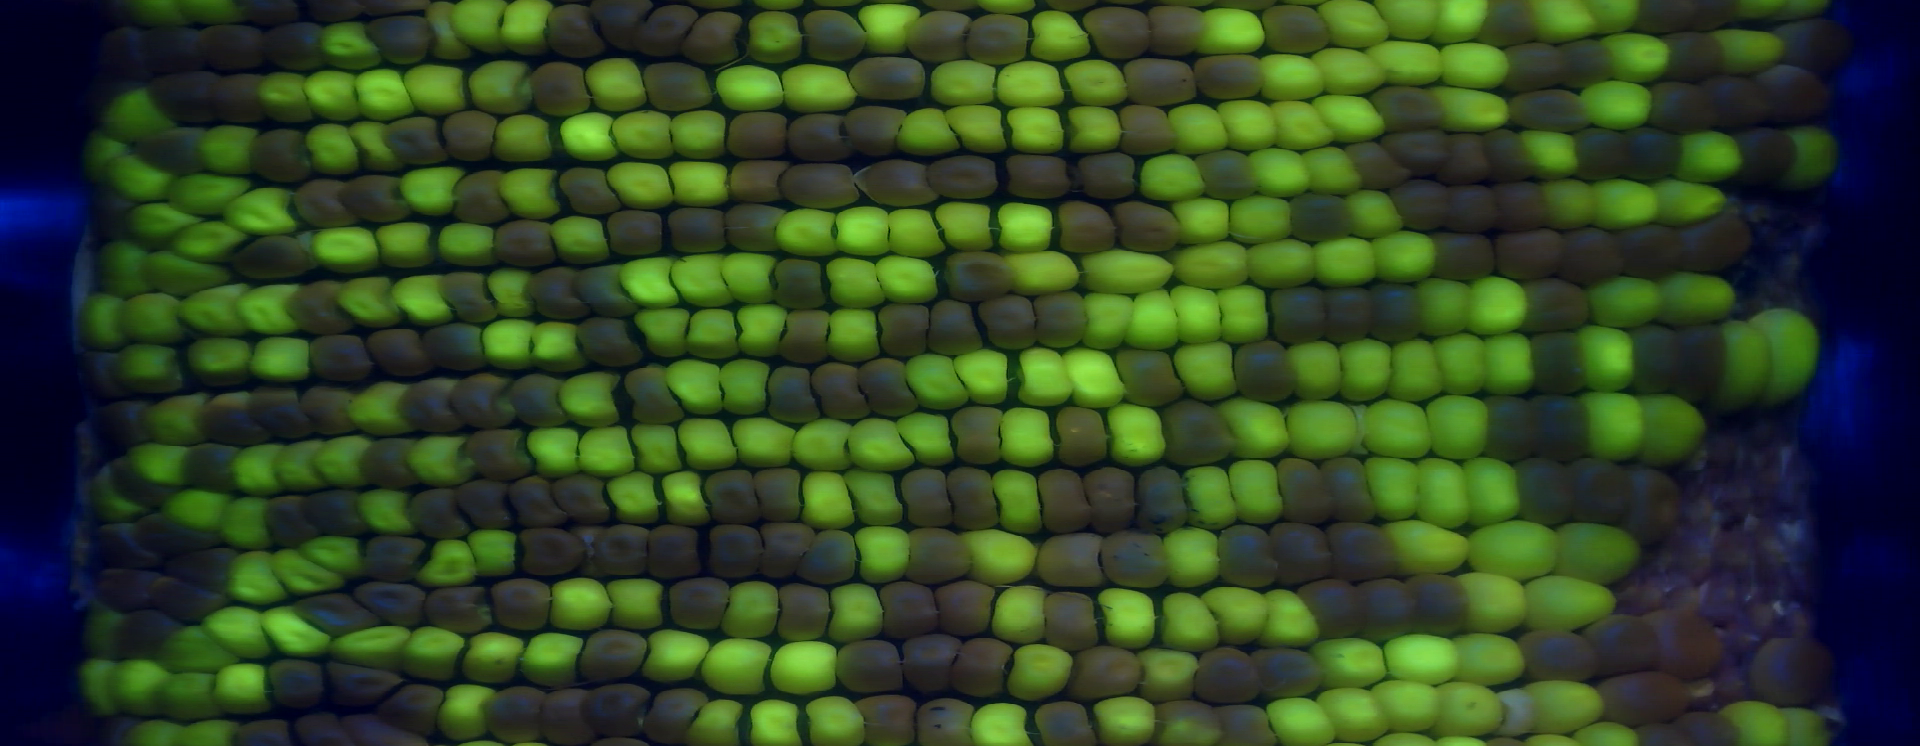fluorescent: (1753, 303, 1821, 398), (1640, 390, 1714, 475), (1714, 318, 1778, 416), (1551, 521, 1644, 586), (1524, 575, 1619, 638), (1580, 323, 1651, 405), (1003, 646, 1087, 710), (960, 528, 1049, 589), (1359, 394, 1438, 462), (1284, 401, 1365, 465), (1441, 626, 1528, 686), (1378, 631, 1468, 688), (1250, 587, 1326, 654), (396, 620, 471, 687), (323, 620, 420, 673), (201, 604, 285, 664), (1460, 527, 1560, 577), (1371, 680, 1458, 737), (1199, 583, 1278, 646), (1381, 519, 1477, 571), (104, 149, 182, 212), (1224, 392, 1297, 459), (1675, 124, 1749, 190), (1584, 390, 1651, 463), (246, 330, 327, 390), (1433, 675, 1509, 739), (767, 637, 844, 699), (1307, 636, 1393, 691), (1416, 454, 1476, 534), (261, 605, 340, 665), (1157, 589, 1232, 653), (176, 287, 264, 341), (613, 254, 689, 316), (694, 639, 778, 696), (1425, 394, 1494, 462), (988, 582, 1056, 650), (1311, 685, 1391, 742), (125, 441, 204, 499), (1187, 465, 1248, 540), (1456, 572, 1532, 632), (1431, 80, 1513, 135), (1480, 332, 1540, 407), (997, 247, 1087, 296), (1518, 680, 1609, 729), (1427, 337, 1498, 399), (1016, 342, 1078, 414), (986, 464, 1047, 537), (1657, 266, 1739, 320), (1079, 247, 1173, 294), (1335, 338, 1400, 405), (1417, 276, 1482, 343), (1174, 342, 1244, 404), (1093, 584, 1164, 646), (93, 243, 164, 304), (1062, 344, 1129, 408), (1577, 80, 1657, 134), (795, 470, 863, 533), (1172, 243, 1254, 294), (144, 670, 227, 722), (850, 524, 913, 590), (497, 167, 564, 229), (1267, 96, 1337, 156), (1060, 51, 1136, 107), (247, 69, 318, 127), (665, 250, 737, 307), (520, 633, 593, 691), (727, 412, 801, 468), (951, 349, 1019, 410), (849, 416, 917, 477), (1136, 153, 1216, 205), (1367, 227, 1438, 284), (931, 198, 1002, 256), (196, 122, 267, 180), (118, 290, 195, 343), (1243, 236, 1324, 287), (1164, 526, 1228, 589), (1228, 462, 1291, 527), (1090, 691, 1163, 746), (169, 218, 256, 265), (722, 579, 790, 639), (71, 657, 130, 725), (1584, 272, 1667, 321), (1364, 38, 1446, 87), (780, 60, 862, 109), (583, 55, 654, 111), (1247, 142, 1318, 198), (636, 627, 707, 684), (351, 484, 422, 540), (402, 61, 473, 118), (547, 573, 620, 628), (1464, 273, 1528, 336), (998, 403, 1060, 467), (304, 121, 369, 183), (182, 331, 256, 385), (1367, 454, 1423, 524), (156, 624, 240, 670), (302, 225, 384, 273), (993, 60, 1069, 111), (902, 347, 966, 408), (823, 581, 884, 644), (664, 107, 736, 160), (872, 254, 944, 307), (1299, 145, 1371, 198), (1004, 100, 1071, 158), (1462, 451, 1520, 518), (100, 87, 178, 137), (769, 205, 840, 258), (1313, 91, 1384, 145), (671, 356, 733, 418), (213, 489, 276, 550), (480, 258, 544, 318), (924, 60, 1007, 107), (137, 394, 213, 445), (1387, 334, 1445, 401), (73, 292, 140, 349), (403, 167, 469, 224), (1439, 37, 1511, 89), (457, 633, 529, 686), (1589, 176, 1667, 225), (489, 118, 562, 169), (299, 66, 367, 121), (222, 551, 291, 605), (1717, 26, 1788, 78), (234, 287, 305, 339), (1031, 9, 1096, 66), (654, 468, 711, 533), (715, 356, 771, 423), (993, 198, 1059, 255), (396, 273, 462, 330), (680, 695, 752, 746), (115, 343, 187, 394), (464, 60, 531, 115), (492, 1, 560, 56), (223, 189, 300, 236), (613, 107, 683, 159), (743, 5, 804, 65), (844, 469, 907, 527), (964, 701, 1044, 746), (713, 64, 787, 113), (1198, 5, 1272, 54), (610, 157, 675, 213), (1517, 127, 1582, 184), (164, 485, 242, 532), (853, 1, 921, 55), (804, 692, 872, 746), (107, 660, 174, 714), (142, 251, 231, 292), (672, 418, 741, 470), (302, 535, 371, 588), (1164, 283, 1224, 343), (1284, 338, 1346, 397), (1123, 287, 1182, 348), (435, 680, 497, 737), (831, 205, 896, 260), (1138, 644, 1202, 699), (211, 661, 276, 717), (372, 219, 437, 274), (527, 426, 594, 479), (1164, 198, 1240, 245), (684, 305, 744, 364), (1107, 407, 1167, 465), (820, 256, 884, 311), (560, 367, 623, 423), (271, 546, 340, 597), (1171, 103, 1236, 157), (1319, 1, 1396, 47), (1603, 29, 1674, 78), (784, 419, 858, 465), (320, 22, 394, 69), (1258, 48, 1325, 99), (1081, 290, 1138, 352), (824, 307, 887, 363), (410, 432, 473, 488), (1343, 184, 1407, 238), (552, 212, 616, 266), (1311, 47, 1385, 93), (433, 220, 507, 267), (557, 111, 622, 164), (350, 65, 415, 118), (1651, 176, 1733, 218), (167, 173, 253, 212), (1258, 698, 1329, 746), (713, 256, 780, 306), (632, 303, 687, 364), (1221, 99, 1282, 154), (418, 534, 479, 589), (1227, 194, 1296, 243), (269, 439, 334, 490), (1213, 285, 1273, 341), (87, 462, 142, 522), (666, 158, 733, 207), (336, 278, 397, 332), (480, 321, 545, 371), (1724, 699, 1794, 746), (77, 601, 133, 659), (631, 424, 686, 483), (465, 526, 524, 581), (604, 472, 667, 522), (609, 576, 665, 632), (230, 443, 287, 500), (731, 305, 784, 365), (898, 413, 958, 465), (577, 423, 633, 478), (316, 436, 372, 491), (746, 698, 811, 746), (78, 126, 130, 186), (452, 1, 513, 51), (344, 385, 411, 430), (1307, 238, 1378, 281), (1780, 126, 1832, 185), (120, 717, 222, 746), (530, 320, 583, 376), (1068, 104, 1127, 154), (348, 118, 402, 171), (1379, 1, 1444, 45), (1534, 1, 1600, 44), (943, 105, 1007, 149), (1436, 1, 1498, 47), (1547, 173, 1599, 225), (896, 108, 958, 152), (115, 198, 191, 234), (884, 208, 940, 256), (178, 717, 256, 746), (127, 1, 203, 29), (1780, 706, 1832, 746), (180, 1, 253, 28), (1588, 1, 1643, 34), (1573, 722, 1646, 746)
nonfluorescent: (1589, 658, 1698, 723), (1259, 517, 1342, 592), (1751, 637, 1836, 706), (1512, 620, 1600, 684), (1029, 529, 1116, 593), (945, 635, 1029, 701), (1325, 516, 1409, 581), (1647, 608, 1724, 677), (1059, 646, 1149, 706), (1581, 614, 1663, 679), (538, 1, 618, 65), (1098, 530, 1182, 590), (1671, 323, 1727, 414), (1163, 402, 1236, 470), (940, 462, 1007, 537), (790, 529, 872, 589), (1758, 64, 1836, 127), (1551, 225, 1631, 287), (1247, 639, 1326, 701), (1567, 457, 1633, 530), (1036, 584, 1102, 658), (1509, 450, 1573, 524), (1613, 222, 1695, 281), (804, 354, 876, 421), (1269, 454, 1333, 528), (774, 576, 839, 649), (298, 483, 378, 541), (1210, 528, 1286, 590), (900, 530, 986, 586), (1266, 284, 1336, 352), (1480, 396, 1550, 463), (367, 11, 451, 67), (700, 526, 773, 590), (853, 159, 947, 209), (1082, 461, 1142, 538), (1112, 345, 1187, 407), (1502, 85, 1596, 134), (196, 20, 277, 76), (944, 399, 1010, 468), (1524, 325, 1589, 394), (1296, 576, 1360, 646), (293, 587, 378, 639), (798, 10, 877, 67), (831, 636, 910, 693), (1773, 24, 1856, 78), (894, 4, 978, 56), (1052, 405, 1118, 472), (938, 249, 1019, 303), (702, 469, 773, 530), (662, 572, 740, 628), (149, 570, 234, 621), (530, 62, 607, 119), (516, 523, 590, 581), (1367, 86, 1450, 137), (1189, 647, 1258, 709), (447, 163, 516, 225), (931, 578, 1000, 639), (1679, 214, 1750, 274), (287, 283, 358, 343), (1262, 1, 1336, 59), (358, 321, 431, 379), (855, 358, 921, 421), (880, 579, 947, 643), (339, 174, 419, 227), (1322, 459, 1382, 529), (261, 657, 331, 717), (720, 105, 796, 160), (1114, 200, 1185, 258), (486, 575, 563, 628), (1044, 200, 1118, 256), (487, 217, 561, 273), (153, 543, 252, 584), (999, 149, 1081, 200), (320, 654, 402, 704), (176, 440, 251, 495), (1318, 277, 1376, 347), (231, 234, 312, 284), (776, 305, 841, 367), (1430, 230, 1504, 285), (980, 294, 1046, 355), (1358, 575, 1418, 642), (402, 488, 470, 546), (508, 474, 577, 533), (1127, 58, 1202, 110), (1408, 572, 1471, 636), (901, 628, 962, 693), (920, 156, 1000, 205), (1629, 323, 1682, 397), (250, 383, 317, 442), (448, 371, 516, 430), (1033, 469, 1091, 538), (416, 584, 495, 635), (386, 116, 456, 173), (1144, 2, 1215, 58), (1229, 345, 1300, 401), (637, 690, 708, 745), (1731, 127, 1796, 187), (871, 303, 936, 363), (769, 255, 835, 314), (1618, 127, 1686, 184), (302, 334, 377, 386), (757, 519, 820, 579), (260, 492, 320, 556), (440, 108, 504, 167), (144, 70, 220, 120), (1381, 127, 1455, 179), (1489, 227, 1562, 278), (133, 508, 217, 554), (482, 685, 544, 746), (296, 377, 358, 439), (377, 679, 448, 731), (550, 472, 615, 529), (1504, 40, 1573, 93), (900, 464, 953, 534), (645, 526, 707, 586), (622, 367, 683, 428), (1538, 396, 1596, 459), (767, 360, 820, 428), (1133, 462, 1187, 529), (465, 424, 533, 478), (202, 390, 269, 443), (94, 399, 167, 450), (587, 681, 647, 741), (504, 372, 566, 431), (1649, 80, 1713, 136), (1622, 475, 1679, 539), (1342, 141, 1413, 191), (359, 576, 430, 626), (665, 200, 731, 254), (1194, 58, 1272, 103), (722, 156, 795, 205), (421, 323, 493, 372), (1198, 148, 1260, 205), (719, 202, 789, 252), (683, 11, 748, 65), (1082, 11, 1160, 56), (1491, 179, 1558, 232), (92, 519, 158, 572), (774, 164, 860, 205), (1523, 281, 1591, 332), (1033, 292, 1093, 349), (105, 461, 178, 508), (400, 379, 462, 435), (359, 437, 421, 492), (842, 104, 912, 153), (580, 632, 654, 679), (962, 20, 1033, 67), (748, 465, 806, 524), (257, 132, 317, 189), (560, 160, 621, 216), (573, 314, 636, 367), (1070, 149, 1139, 198), (1116, 103, 1179, 156), (588, 1, 653, 53), (911, 696, 977, 746), (928, 299, 987, 355), (1566, 125, 1626, 180), (1289, 187, 1351, 241), (342, 713, 441, 746), (780, 113, 849, 160), (285, 178, 354, 225), (1368, 285, 1423, 344), (855, 692, 922, 740), (261, 26, 336, 69), (651, 58, 716, 107), (591, 526, 651, 578), (208, 69, 269, 120), (1210, 699, 1277, 746), (604, 209, 667, 258), (118, 606, 182, 654), (454, 479, 514, 530), (440, 273, 502, 322), (540, 690, 594, 746), (1706, 71, 1764, 122), (1477, 1, 1538, 50), (98, 29, 160, 77), (849, 60, 927, 98), (640, 1, 692, 59), (1389, 181, 1449, 230), (151, 24, 213, 71), (1033, 699, 1095, 746), (1438, 130, 1490, 184), (1556, 38, 1618, 83), (358, 535, 427, 575), (1447, 180, 1496, 235), (534, 269, 584, 322), (1656, 34, 1723, 73), (576, 265, 631, 311), (1669, 712, 1742, 746), (235, 1, 320, 31), (280, 710, 350, 746), (1478, 131, 1528, 179), (96, 567, 160, 604), (135, 127, 198, 164), (1631, 1, 1704, 31), (228, 717, 300, 746), (91, 209, 140, 249), (1689, 1, 1744, 33), (87, 178, 140, 209), (1633, 717, 1676, 746), (317, 1, 369, 20)
